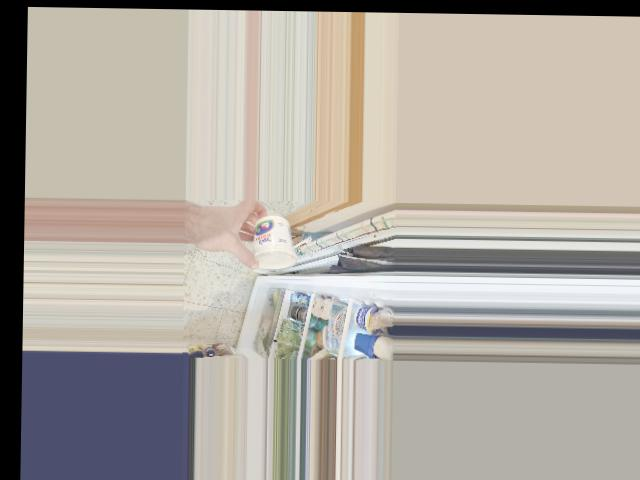cotage: (249, 214, 294, 272)
